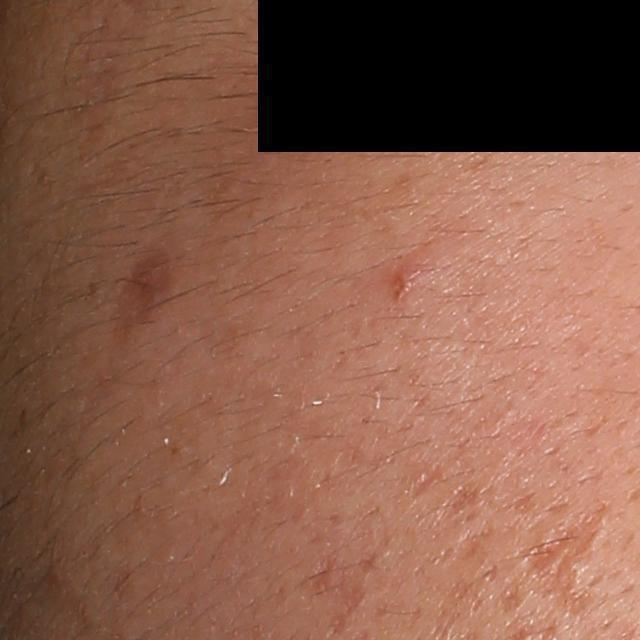atrophic_scar: (529, 502, 611, 588)
papule: (389, 260, 425, 295)
